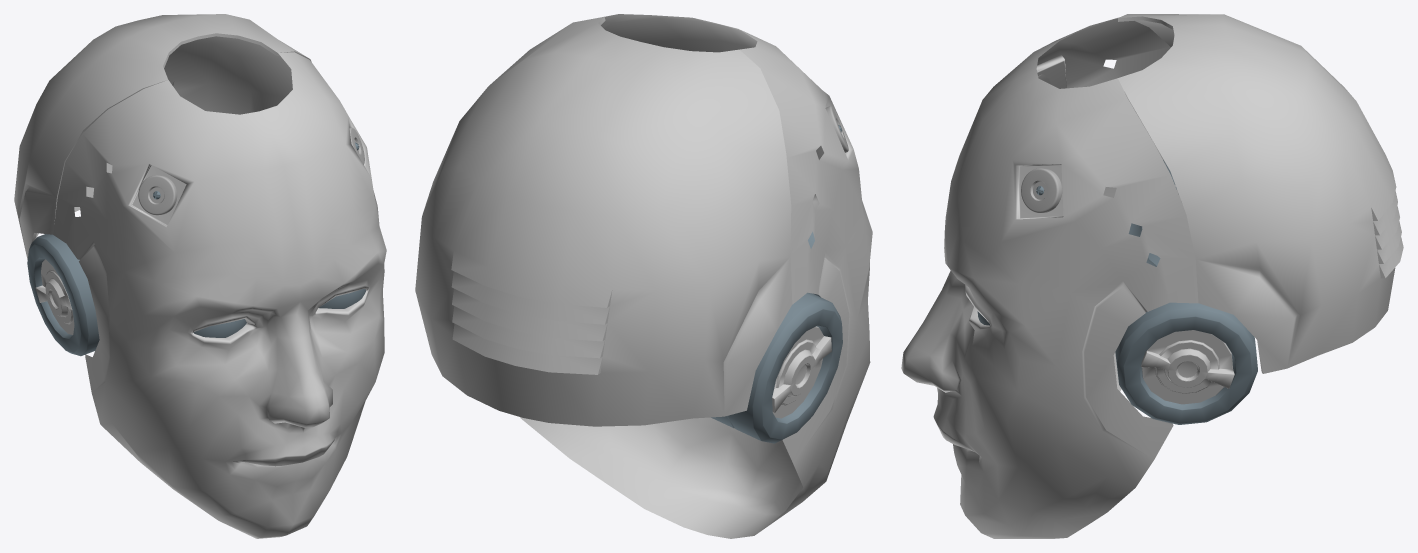
The model's file is head6.glb.
The picture shows the model from 3 angles, left to right: view 1: azimuth 30°, elevation 25°; view 2: azimuth 150°, elevation 25°; view 3: azimuth 270°, elevation 25°; orthographic projection. The views are drawn at different scales.
Visible parts, largest first — view 1: face_VF, щиток головы затылок01, ChamferCyl01, Sphere, Sphere.001; view 2: щиток головы затылок01, face_VF, ChamferCyl01; view 3: face_VF, щиток головы затылок01, ChamferCyl01.
Part boxes in pixels (x1,y1,x2,y2): face_VF: (53,52,386,538); щиток головы затылок01: (14,14,311,259); ChamferCyl01: (27,127,364,356); Sphere: (193,319,246,337); Sphere.001: (319,289,366,308); щиток головы затылок01: (415,16,792,426); face_VF: (520,14,872,538); ChamferCyl01: (711,106,848,443); face_VF: (901,18,1198,538); щиток головы затылок01: (1117,14,1403,373); ChamferCyl01: (1021,74,1257,424).
Bounding box in the file's own units: 0.3593 × 0.5226 × 0.4808.
